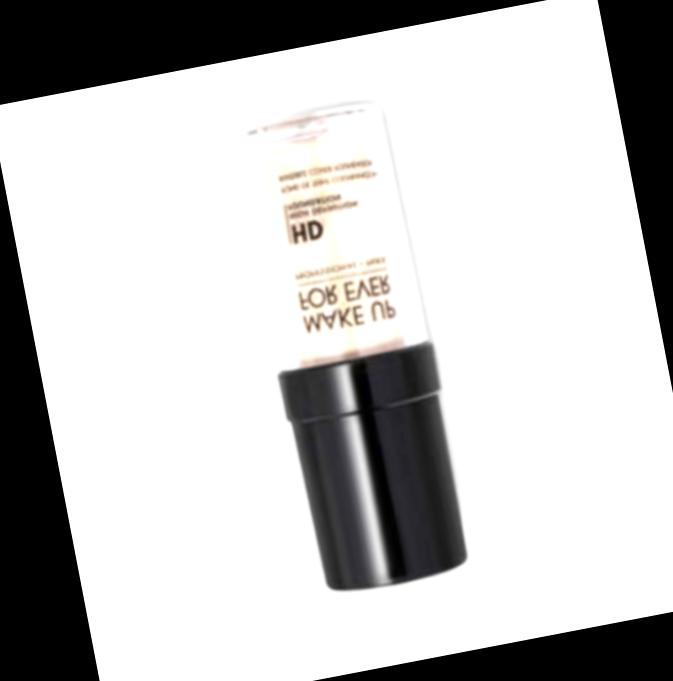cosmetic: (224, 96, 479, 600)
